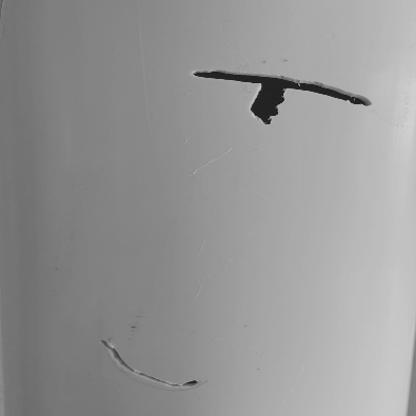fengxi: (191, 67, 374, 107), (97, 339, 201, 389)
kongdong: (250, 84, 288, 125)
